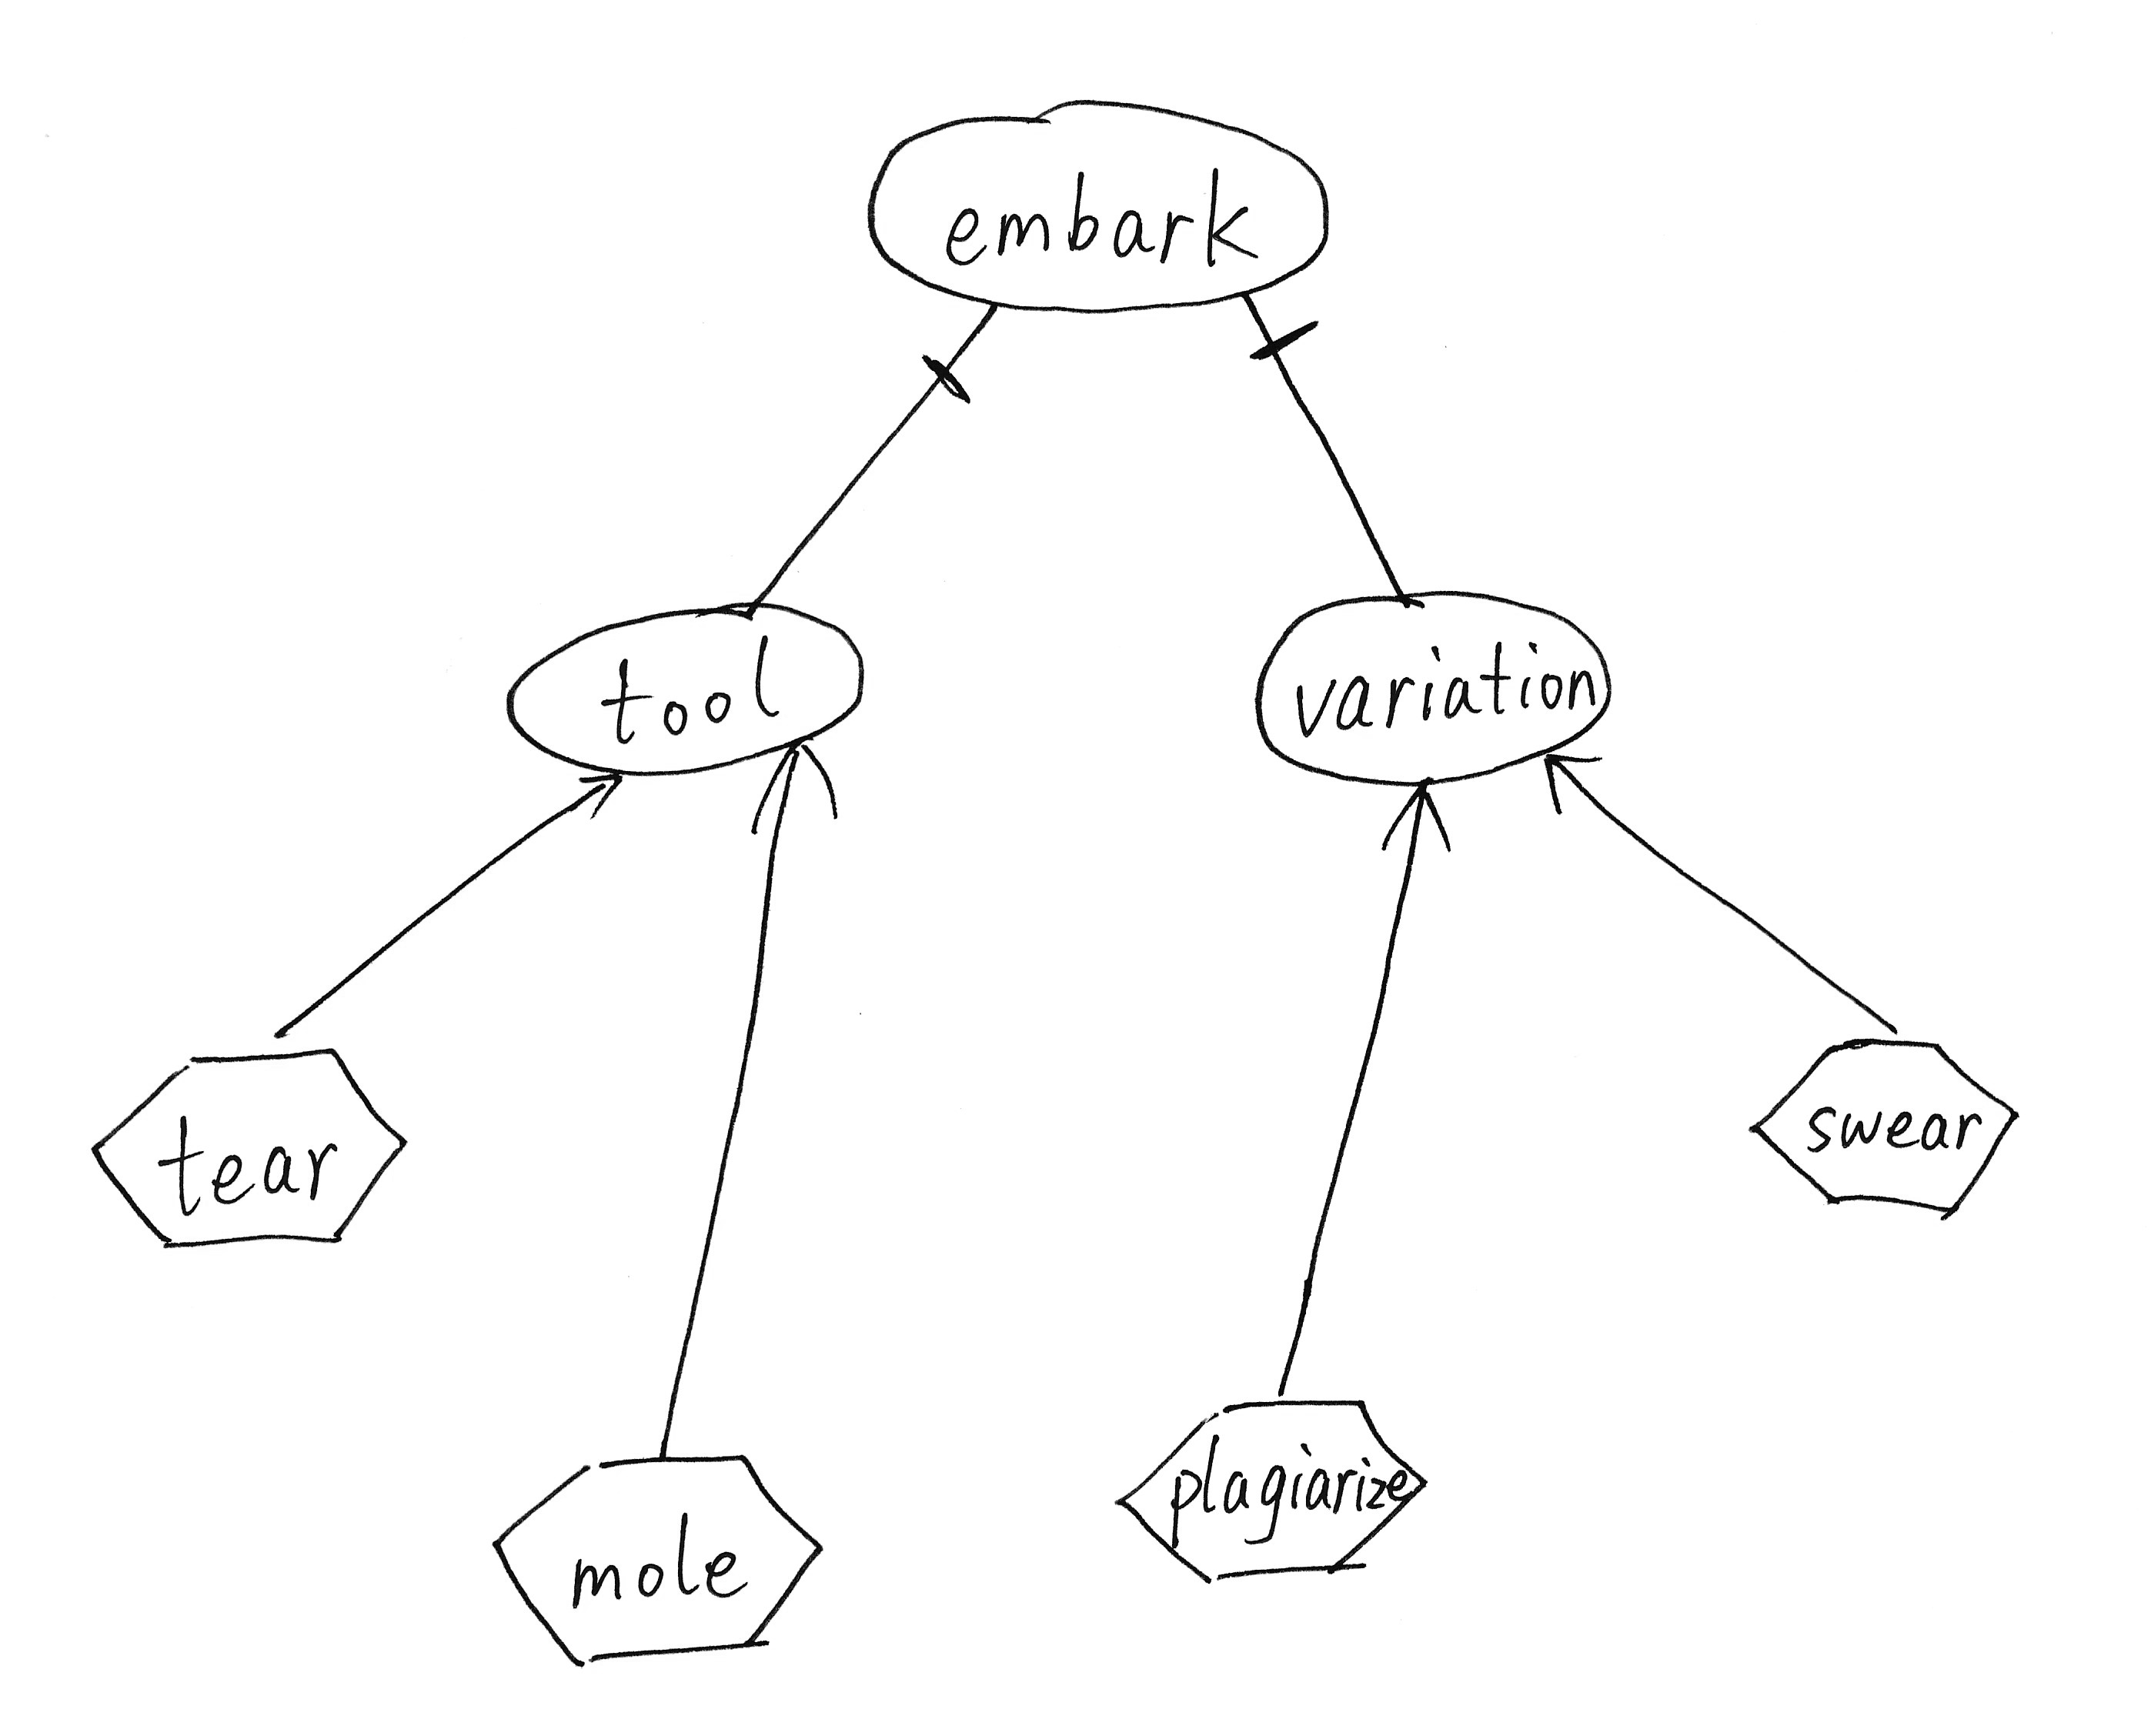and: (1223, 280, 1334, 399), (911, 289, 1008, 420)
arrow: (742, 719, 850, 859), (1371, 760, 1467, 886), (1531, 732, 1625, 831), (558, 751, 636, 833)
goal: (843, 81, 1355, 335), (1233, 569, 1635, 806), (485, 581, 886, 792)
task: (475, 1437, 849, 1681), (69, 1031, 429, 1270), (1099, 1383, 1446, 1601), (1735, 1020, 2039, 1224)
